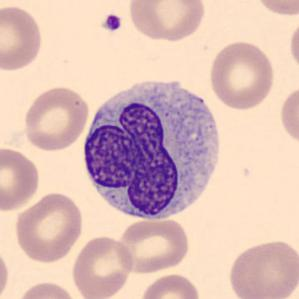Monocyte: (76, 71, 229, 226)
Platelets: (100, 12, 124, 34)
RBC: (12, 190, 86, 264), (207, 39, 277, 111), (21, 84, 90, 152), (226, 236, 297, 299), (115, 217, 191, 275), (69, 233, 135, 299), (126, 0, 207, 43), (0, 2, 45, 74), (0, 145, 43, 213), (138, 272, 202, 299), (278, 83, 298, 148), (15, 279, 79, 299), (252, 0, 298, 18), (287, 17, 299, 77), (0, 243, 11, 299)
